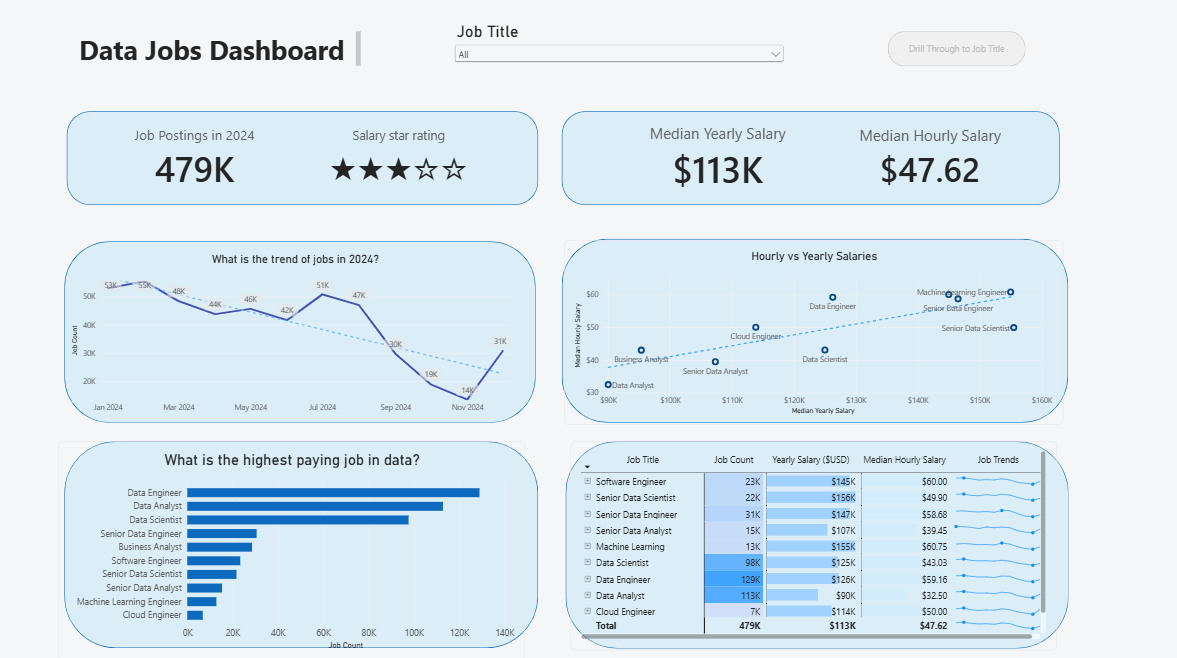

What the dashboard file says about the page in this screenshot:
{"tool":"powerbi","page":{"name":"Data Jobs Dashboard","canvas":[1920,1080],"ordinal":0},"visuals":[{"type":"group","id":"g1","title":"Background","box":[0,0,1920.1,1080.4],"z":0},{"type":"textbox","box":[154,58,450,50],"z":1000},{"type":"slicer","fields":{"Values":["job_postings_flat.job_title_short"]},"box":[750,42.5,536,82],"z":2000},{"type":"cardVisual","title":"Median Annual Salary ($U","fields":{"Data":["job_postings_flat.Salary star rating"]},"box":[491.7,186.6,346.2,150],"z":3000},{"type":"cardVisual","fields":{"Data":["CountNonNull(job_postings_flat.job_title_short)"]},"box":[183.4,203.3,309.6,115.4],"z":4000},{"type":"cardVisual","fields":{"Data":["Median(job_postings_flat.salary_year_avg)"]},"box":[990.1,186.6,371.2,150],"z":5000},{"type":"cardVisual","fields":{"Data":["Median(job_postings_flat.salary_hour_avg)"]},"box":[1336.7,186.6,359.6,150],"z":6000},{"type":"lineChart","title":"What is the trend of jobs in 2024?","fields":{"Category":["job_postings_flat.job_posted_date.Variation.Date Hierarchy.Year","job_postings_flat.job_posted_date.Variation.Date Hierarchy.Quarter","job_postings_flat.job_posted_date.Variation.Date Hierarchy.Month","job_postings_flat.job_posted_date.Variation.Date Hierarchy.Day"],"Y":["CountNonNull(job_postings_flat.job_title_short)"]},"box":[133.9,398.1,738.3,289.5],"z":7000},{"type":"barChart","title":"What is the highest paying job in data?","fields":{"Category":["job_postings_flat.job_title_short"],"Y":["CountNonNull(job_postings_flat.job_title_short)"]},"box":[130.3,714.8,736.5,349.3],"z":8000},{"type":"scatterChart","title":"Hourly vs Yearly Salaries","fields":{"Series":["job_postings_flat.job_title_short"],"X":["Median(job_postings_flat.salary_year_avg)"],"Y":["Median(job_postings_flat.salary_hour_avg)"]},"box":[926.5,390.9,801.7,296.8],"z":9000},{"type":"shape","box":[0,0,1920,1080],"z":9500,"group":"g1"},{"type":"shape","box":[130.3,184.6,758.2,150.2],"z":10000,"group":"g1"},{"type":"pivotTable","fields":{"Rows":["job_postings_flat.job_title_short","job_postings_flat.job_posted_date.Variation.Date Hierarchy.Quarter"],"Values":["CountNonNull(job_postings_flat.job_title_short)","Median(job_postings_flat.salary_year_avg)","Median(job_postings_flat.salary_hour_avg)","SparklineData(CountNonNull(job_postings_flat.job_title_short)_[job_postings_flat.job_posted_date.Variation.Date Hierarch"]},"box":[940,714,778,334],"z":10000},{"type":"actionButton","box":[1448,58,220,56],"z":11000},{"type":"shape","box":[926.5,390.9,810.7,295],"z":11000,"group":"g1"},{"type":"shape","box":[130.3,394.5,758.2,291.4],"z":12000,"group":"g1"},{"type":"shape","box":[926.5,184.6,810.7,150.2],"z":13000,"group":"g1"},{"type":"shape","box":[130.3,714.8,758.2,329.4],"z":14000,"group":"g1"},{"type":"shape","box":[932,713,805.3,331.2],"z":15000,"group":"g1"}]}

Visuals, with their boxes in screenshot pixels (x1, y1, x2, y2), scaled from the page's 1920x1080 canvas onto the 1177x658 screenshot:
"Background" group: box(0, 0, 1176, 657)
textbox: box(94, 35, 370, 66)
slicer - job_postings_flat.job_title_short: box(460, 26, 788, 76)
"Median Annual Salary ($U" cardVisual: box(301, 114, 514, 205)
cardVisual - CountNonNull(job_postings_flat.job_title_short): box(112, 124, 302, 194)
cardVisual - Median(job_postings_flat.salary_year_avg): box(607, 114, 835, 205)
cardVisual - Median(job_postings_flat.salary_hour_avg): box(819, 114, 1040, 205)
"What is the trend of jobs in 2024?" lineChart: box(82, 243, 535, 419)
"What is the highest paying job in data?" barChart: box(80, 435, 531, 648)
"Hourly vs Yearly Salaries" scatterChart: box(568, 238, 1059, 419)
shape: box(0, 0, 1176, 657)
shape: box(80, 112, 545, 204)
pivotTable - job_postings_flat.job_title_short x job_postings_flat.job_posted_date.Variation.Date Hierarchy.Quarter: box(576, 435, 1053, 639)
actionButton: box(888, 35, 1023, 69)
shape: box(568, 238, 1065, 418)
shape: box(80, 240, 545, 418)
shape: box(568, 112, 1065, 204)
shape: box(80, 435, 545, 636)
shape: box(571, 434, 1065, 636)
